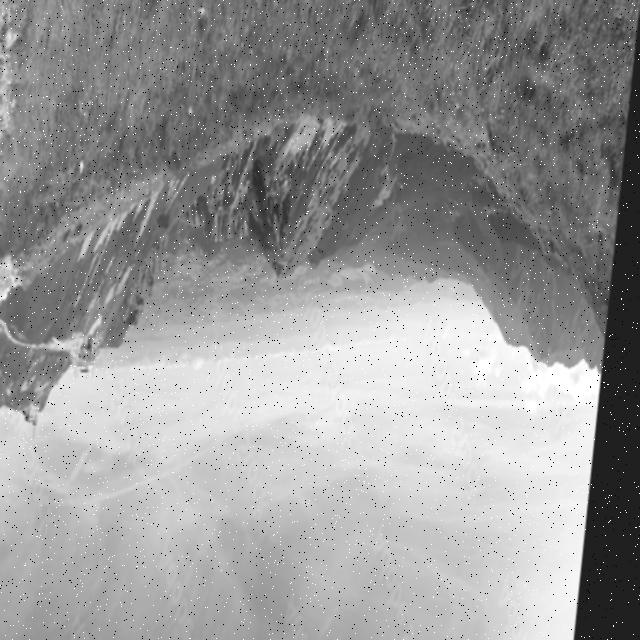Kasprowy Wierch: (0, 332, 86, 494)
Skrajny i Posredni Granat: (580, 318, 607, 405)
Uhrocie Kasprowe: (228, 188, 353, 339)
